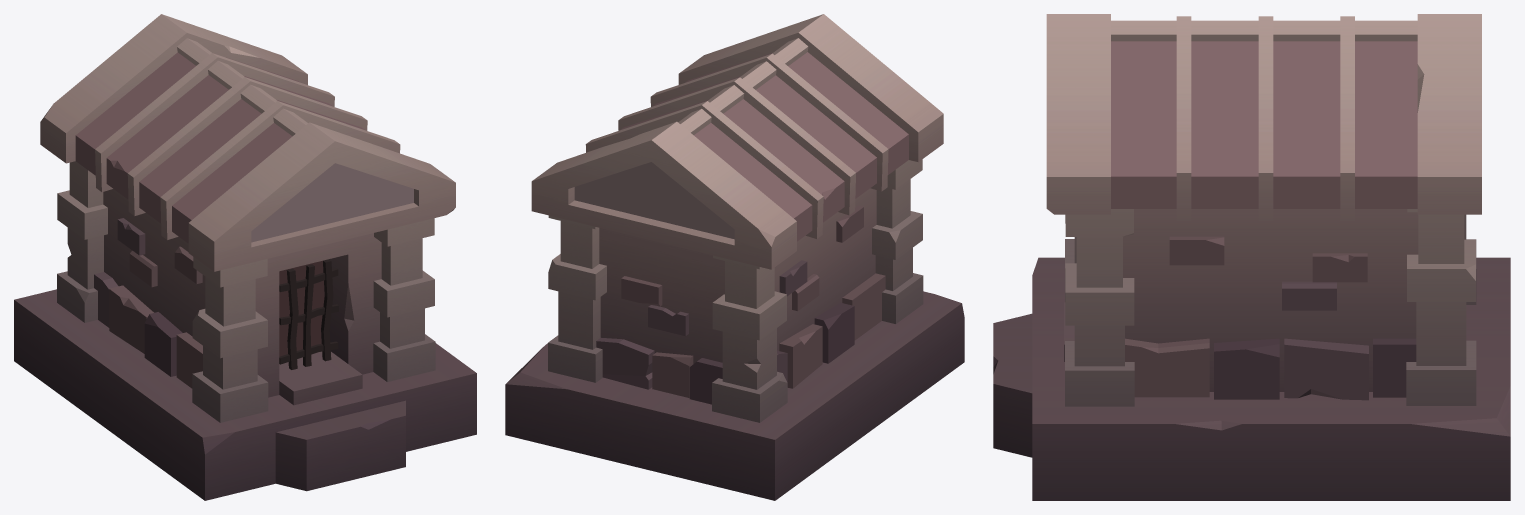
File: mausoleumSmall.glb
The picture shows the model from 3 angles, left to right: view 1: azimuth 30°, elevation 25°; view 2: azimuth 150°, elevation 25°; view 3: azimuth 270°, elevation 25°; orthographic projection. The views are drawn at different scales.
Parts seen in each view (by area): view 1: mausoleumSmall; view 2: mausoleumSmall; view 3: mausoleumSmall.
Boxes of the visible parts, <box> form: mausoleumSmall: <box>14,14,476,500</box>; mausoleumSmall: <box>505,14,964,500</box>; mausoleumSmall: <box>993,14,1510,500</box>.
Bounding box in the file's own units: 3.67 × 4.15 × 4.82.
1 material, 1 textured.
